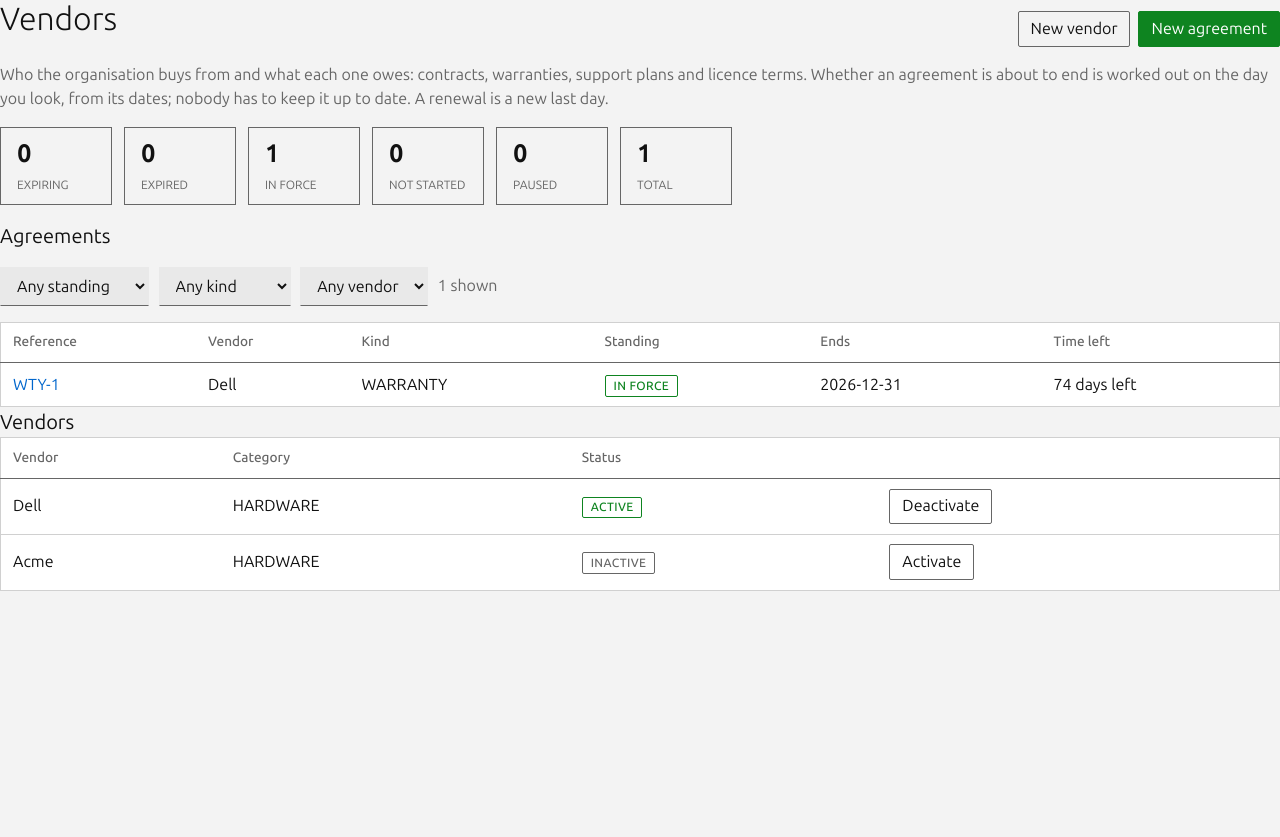
Test: a new agreement › a network failure is plain text
Expected: the button "WTY-1" is shown, [13,373,60,397]
Click the button "New agreement". click: (1209, 29)
box: [1138,11,1279,47]
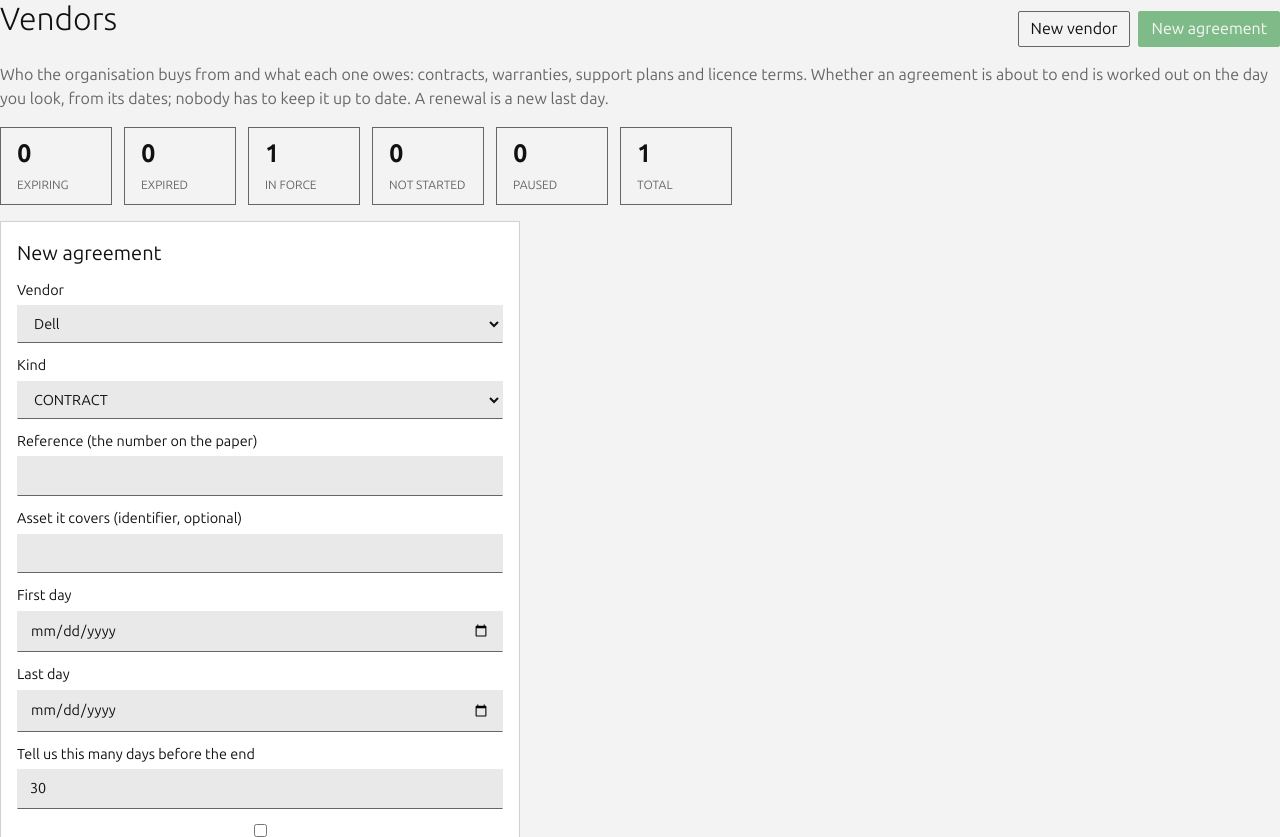
Type "NET" into the field labelled "Reference (the number on the paper)". click: (260, 476)
box: [17,456,503,496]
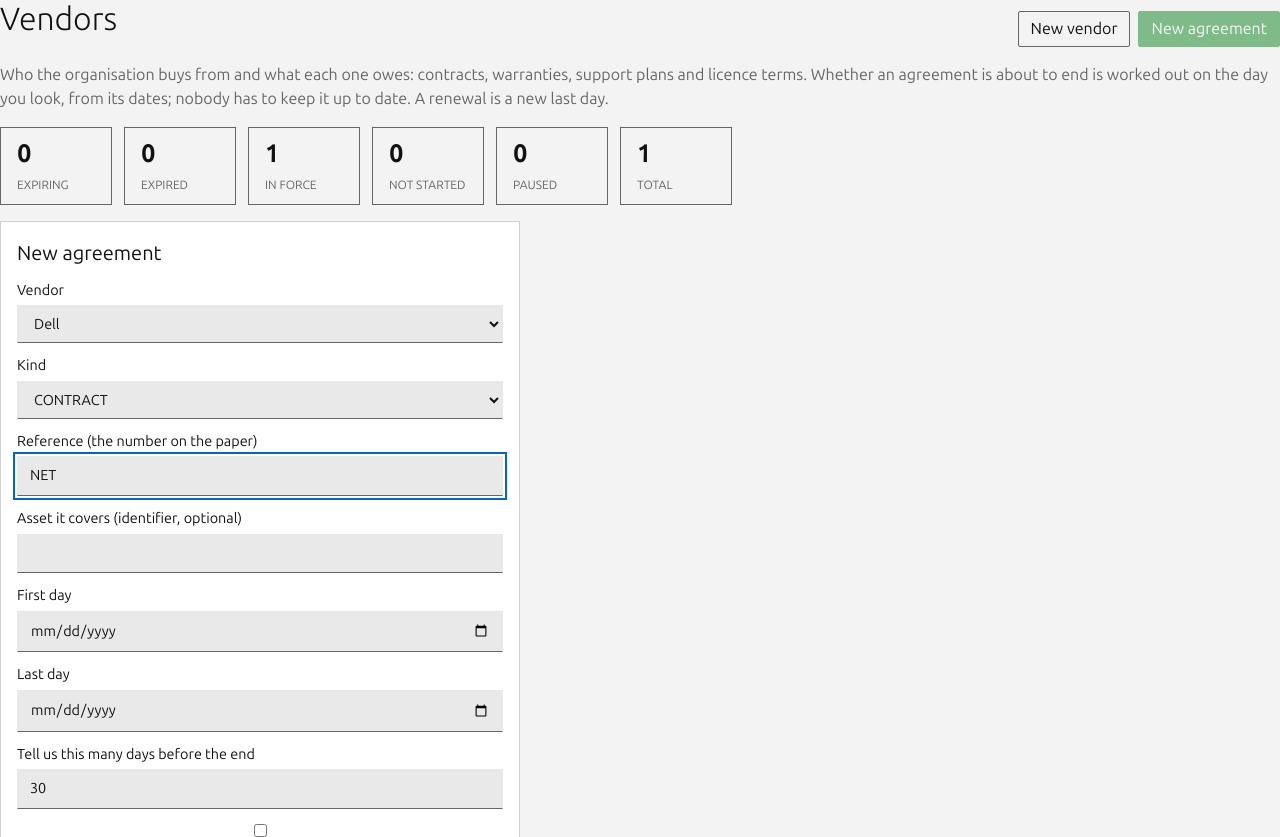
Type "2026-01-01" into the date field labelled "First day". click: (260, 632)
box: [17,611,503,652]
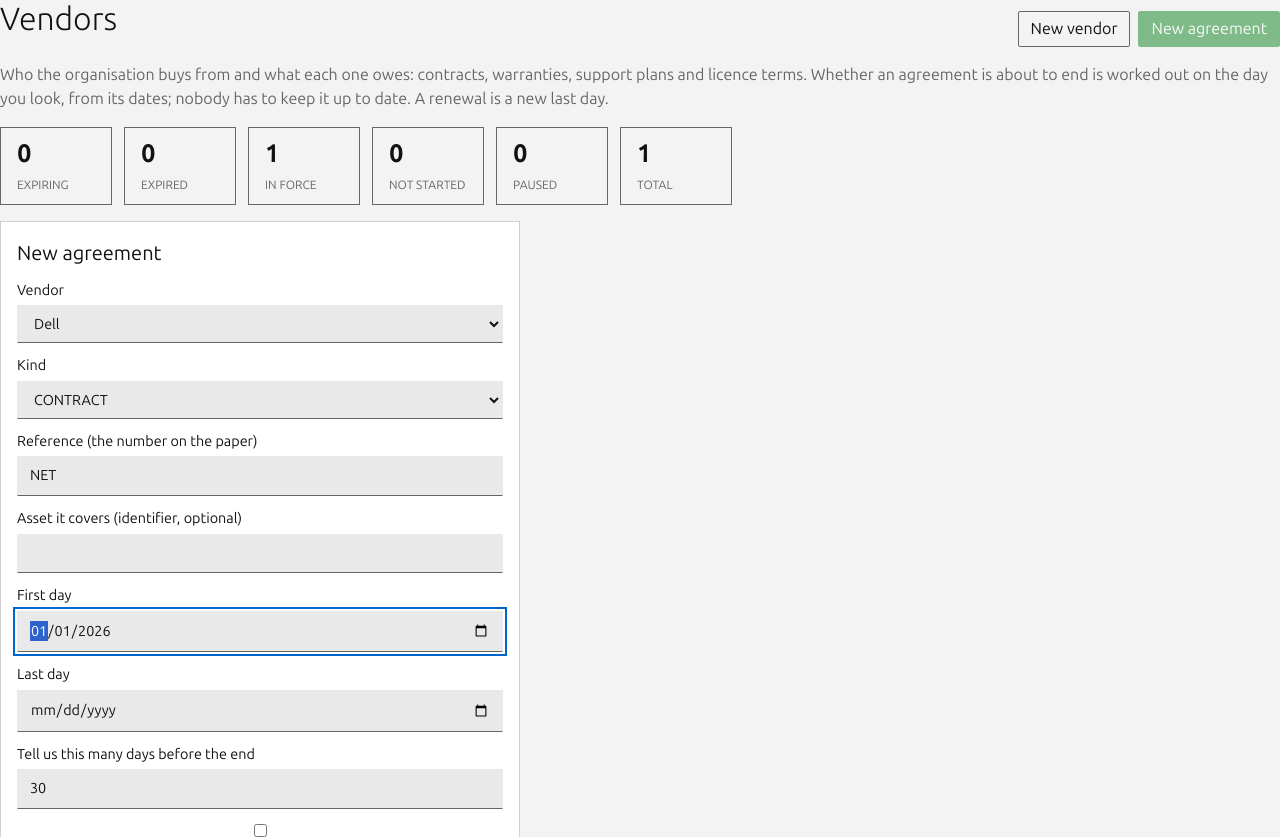
Type "2026-02-01" into the date field labelled "Last day". click: (260, 711)
box: [17,690,503,732]
(page scrolled)
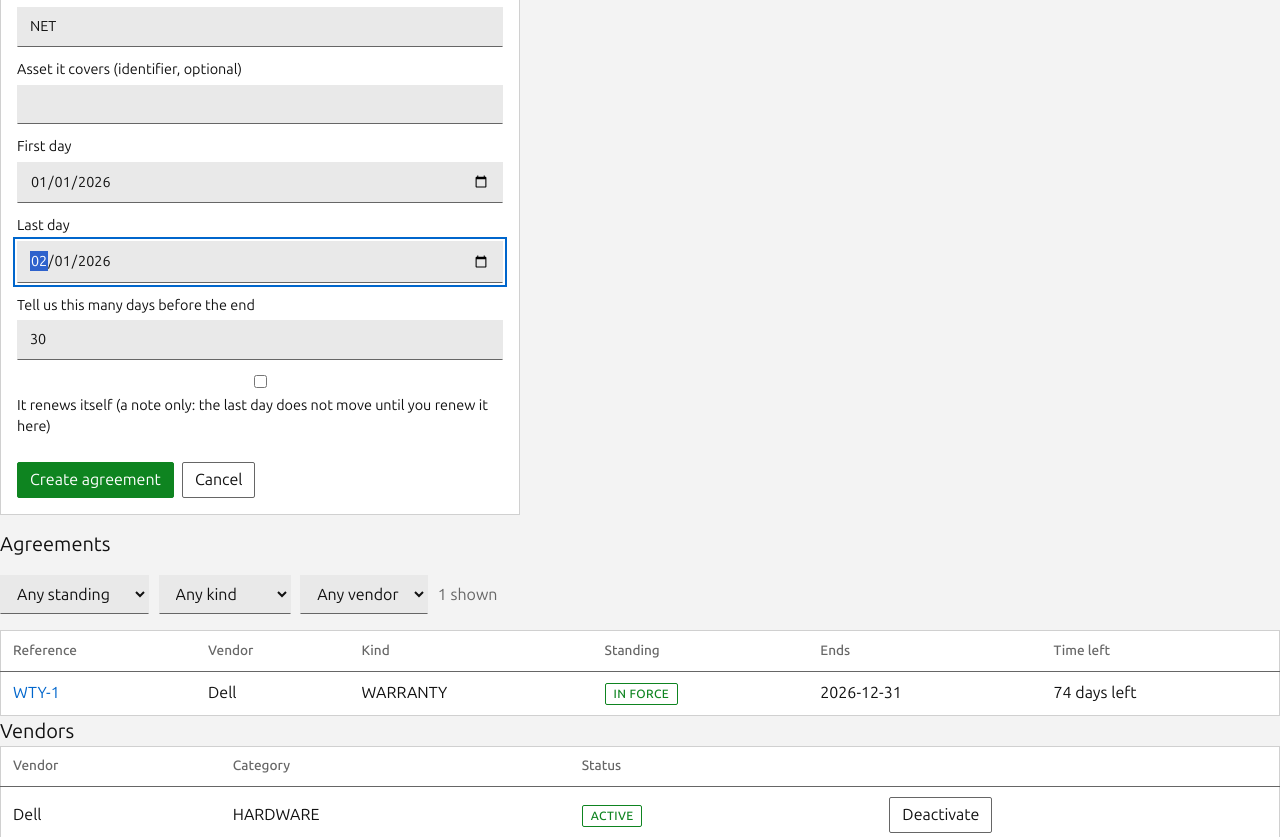
Click the button "Create agreement". click: (95, 480)
box: [17,462,174,498]
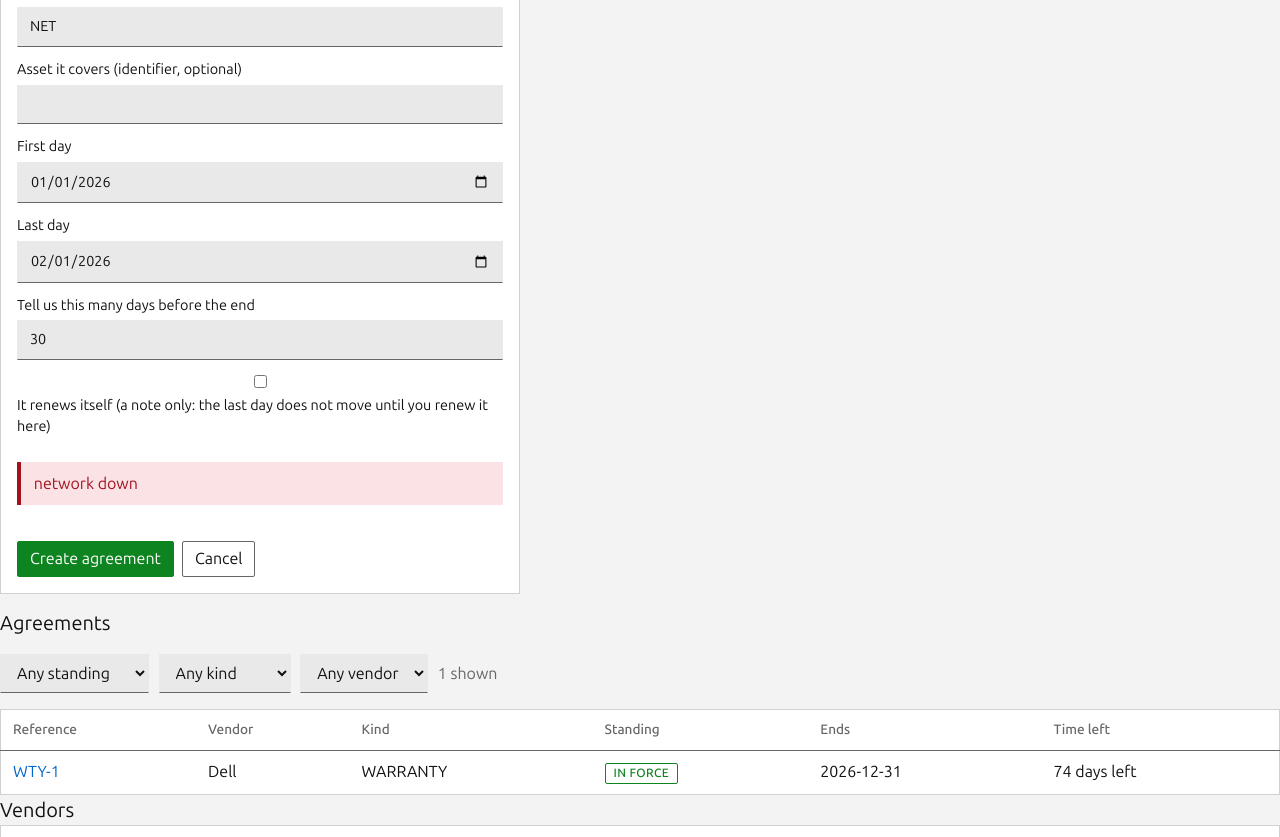
Now the text "network down" is shown, box [17,462,503,505]
